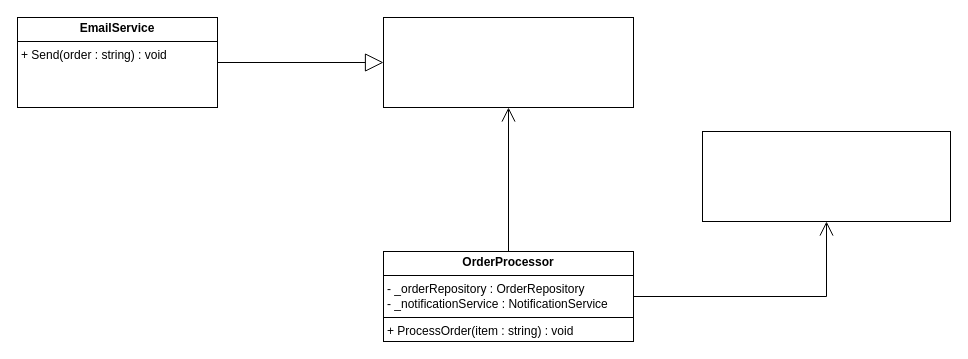
Image size: 968x359. Some labels were removed from this diagram. The shapes that lost their labels are listed below. From the top down, each one's centre as x and y in pixels, then its label:
At point (508, 62): "<<abstract> NotificationService + Send(message : string) : void".
At point (826, 176): "OrderRepository + SaveToDb(order : string) : void".
